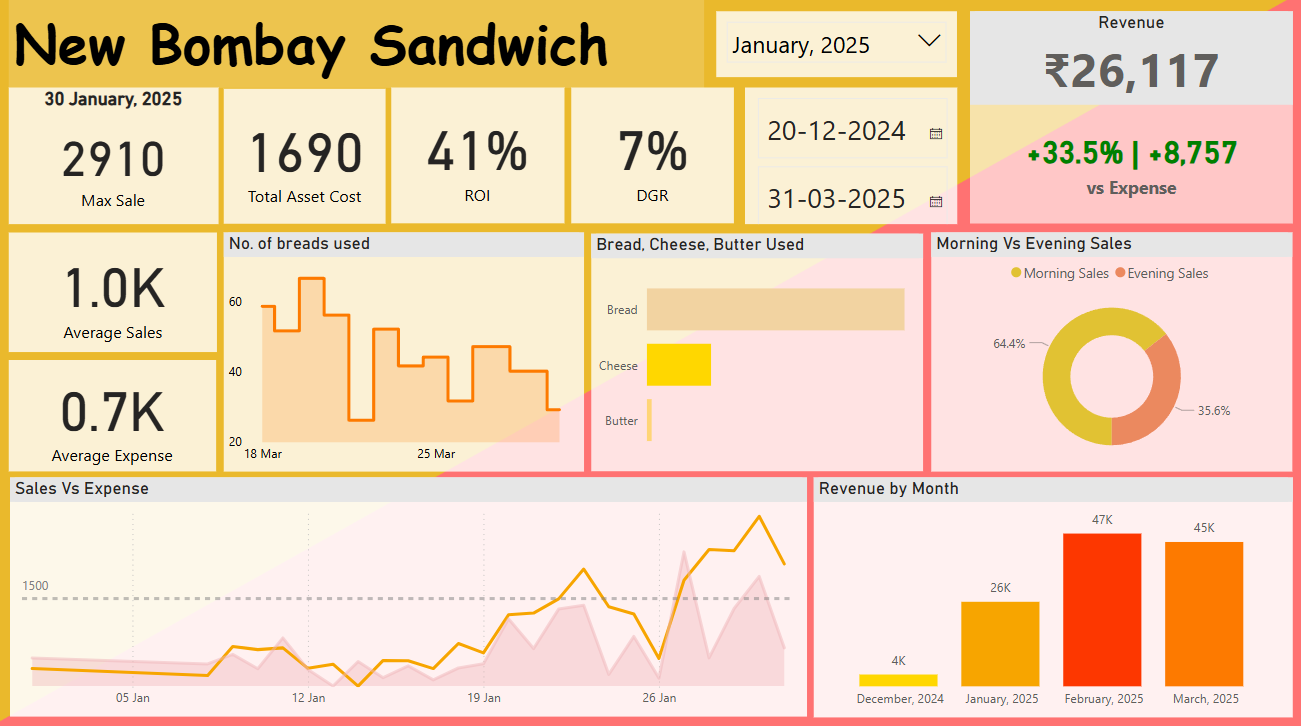

This screenshot's page, from the dashboard's own definition file:
{"tool":"powerbi","page":{"name":"Page 1","canvas":[1280,720],"ordinal":0},"visuals":[{"type":"lineChart","title":"Sales Vs Expense","fields":{"Y":["Sales.Total Sales","Sales.Total Expense"],"Category":["Calendar3.Date"],"Y2":["Sales._profit"]},"box":[9.2,470,783.8,235.4],"z":0},{"type":"slicer","fields":{"Values":["Calendar3.Month & Year"]},"box":[705,11.7,236.7,65],"z":1000},{"type":"card","title":"Revenue","fields":{"Values":["Sales.KPI Total Sales vs Expense"]},"box":[953.8,11.2,317.5,208.8],"z":2000},{"type":"areaChart","title":"No. of breads used","fields":{"Category":["Inventory1.Date"],"Y":["Sum(Inventory1.Used Qty)"]},"box":[220,228.9,354.4,235.6],"z":3000},{"type":"clusteredBarChart","title":"Bread, Cheese, Butter Used","fields":{"Category":["Inventory1.Material"],"Y":["Sum(Inventory1.Used Qty)"]},"box":[581.7,230,326.7,233.3],"z":4000},{"type":"donutChart","title":"Morning Vs Evening Sales","fields":{"Y":["Sum(Sales.Morning)","Sum(Sales.Evening)"]},"box":[916.2,228.8,355,235],"z":5000},{"type":"textbox","box":[8,0,684,86],"z":6000},{"type":"card","fields":{"Values":["Avg(Sales.Total Amount)"]},"box":[8.8,228.8,205,117.5],"z":7000},{"type":"card","fields":{"Values":["Sales.Max Sale"]},"box":[8,86,206,134],"z":8000},{"type":"card","fields":{"Values":["Sales.ROI"]},"box":[384.4,86.7,170,133.3],"z":9000},{"type":"slicer","fields":{"Values":["Calendar3.Date"]},"box":[733.3,85.6,208.9,134.4],"z":10000},{"type":"card","fields":{"Values":["Sales.Daily Growth Rate"]},"box":[562.2,86.7,160,133.3],"z":11000},{"type":"card","fields":{"Values":["Sales.Total Asset Cost"]},"box":[220,86.9,159.2,133.1],"z":12000},{"type":"card","fields":{"Values":["Avg(Expense2.Total)"]},"box":[8.9,354.2,203.7,109.2],"z":13000},{"type":"columnChart","title":"Revenue by Month","fields":{"Category":["Calendar3.Month & Year"],"Y":["Sum(Sales.Total Amount)"]},"box":[800,470,471.4,235.7],"z":14000}]}

Visuals, with their boxes in screenshot pixels (x1, y1, x2, y2), scaled from the page's 1280x720 canvas onto the 1301x726 screenshot:
"Sales Vs Expense" lineChart: l=9, t=474, r=806, b=711
slicer - Calendar3.Month & Year: l=717, t=12, r=957, b=77
"Revenue" card: l=969, t=11, r=1292, b=222
"No. of breads used" areaChart: l=224, t=231, r=584, b=468
"Bread, Cheese, Butter Used" clusteredBarChart: l=591, t=232, r=923, b=467
"Morning Vs Evening Sales" donutChart: l=931, t=231, r=1292, b=468
textbox: l=8, t=0, r=703, b=87
card - Avg(Sales.Total Amount): l=9, t=231, r=217, b=349
card - Sales.Max Sale: l=8, t=87, r=218, b=222
card - Sales.ROI: l=391, t=87, r=563, b=222
slicer - Calendar3.Date: l=745, t=86, r=958, b=222
card - Sales.Daily Growth Rate: l=571, t=87, r=734, b=222
card - Sales.Total Asset Cost: l=224, t=88, r=385, b=222
card - Avg(Expense2.Total): l=9, t=357, r=216, b=467
"Revenue by Month" columnChart: l=813, t=474, r=1292, b=712
